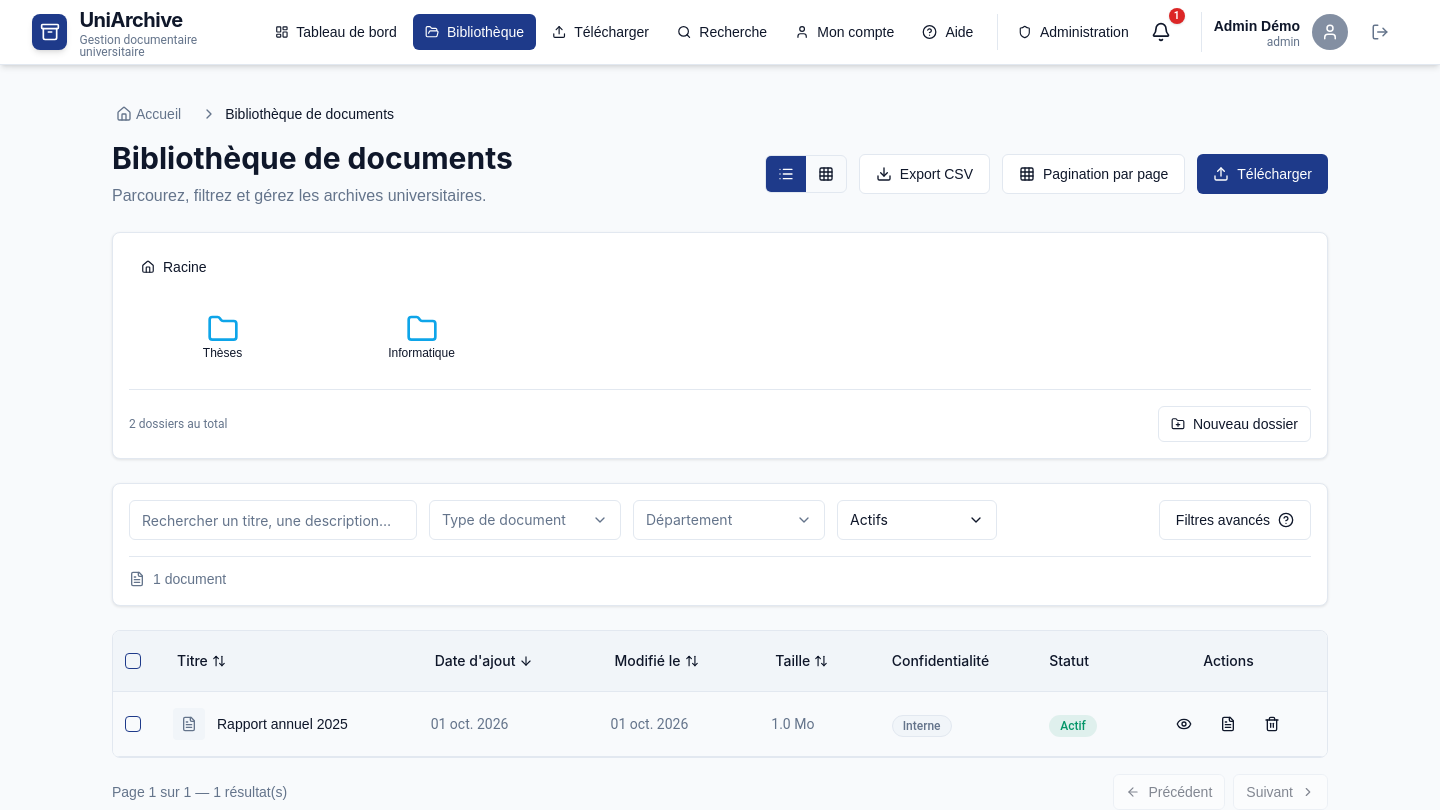
Scenario: page document-library › bascule entre la vue lignes (tableau) et la vue grille
The image size is (1440, 810).
Expected: the text "Rapport annuel 2025" is shown, [217, 716, 348, 732]
Expected: the table is shown, [113, 631, 1327, 757]
Click the button named "Affichage en grille": (826, 174) [806, 156, 846, 192]
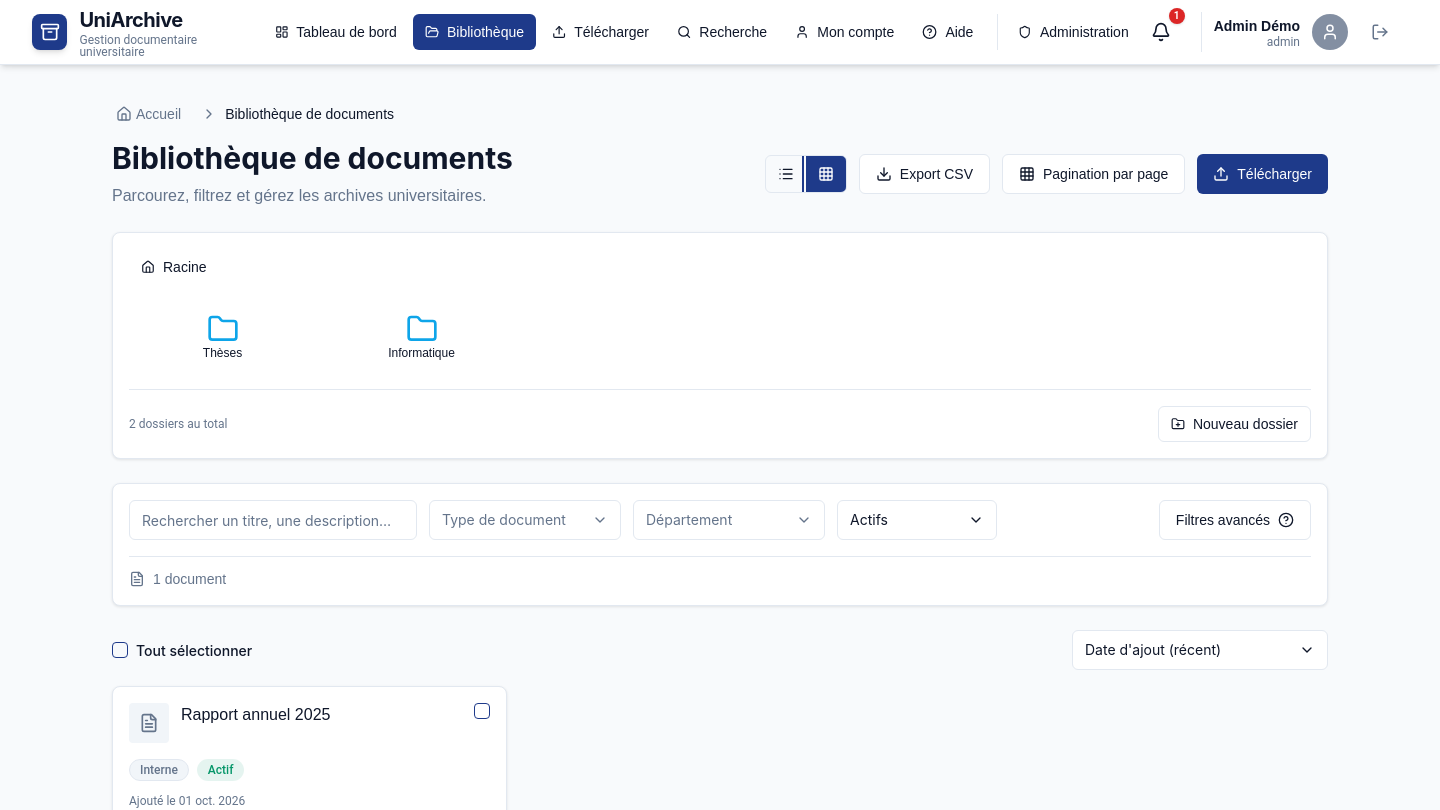
Expected: the text "Rapport annuel 2025" is shown, [181, 703, 330, 727]
Expected: the table is gone
Click the button named "Affichage en lignes": (786, 174) [766, 156, 806, 192]
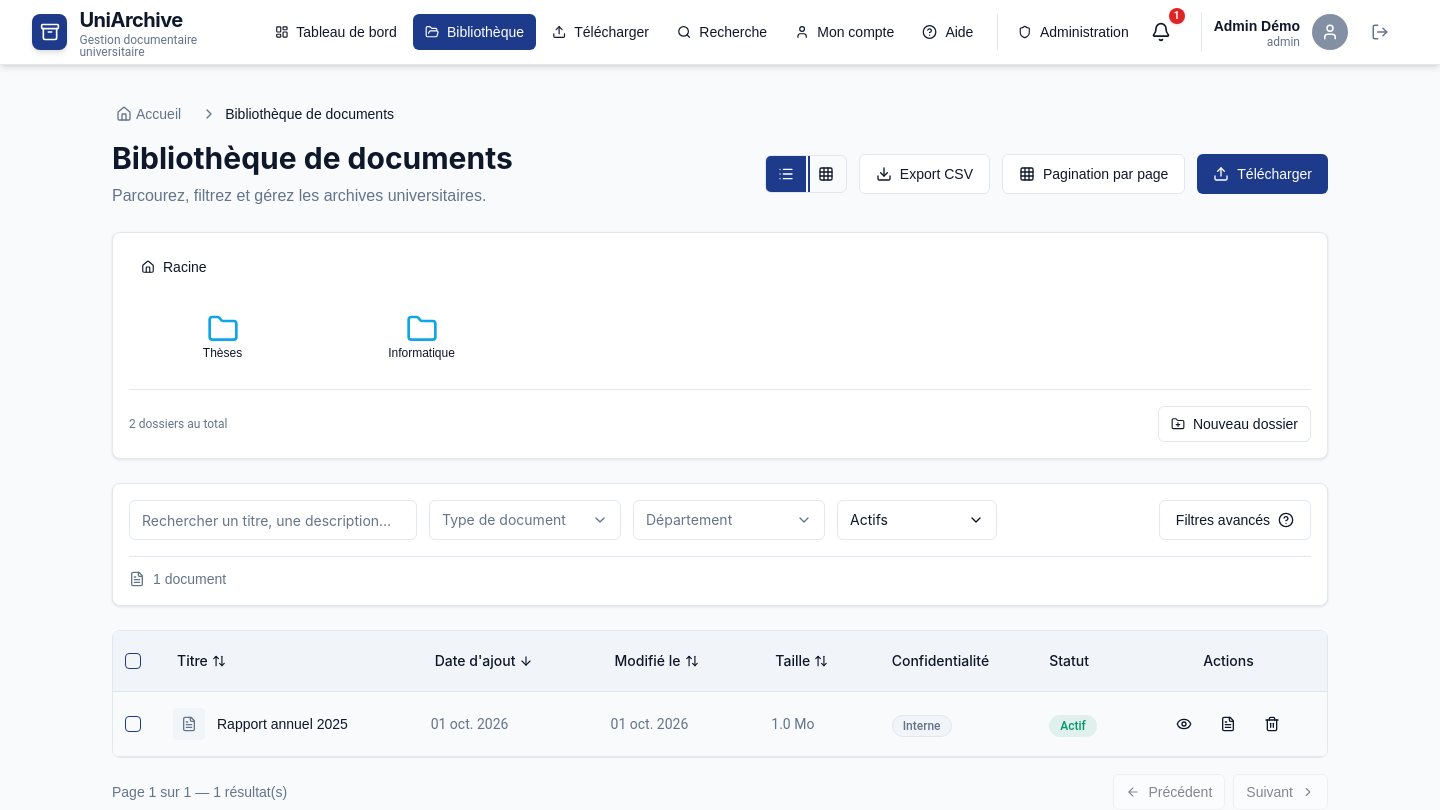
Expected: the table is shown, [113, 631, 1327, 757]
